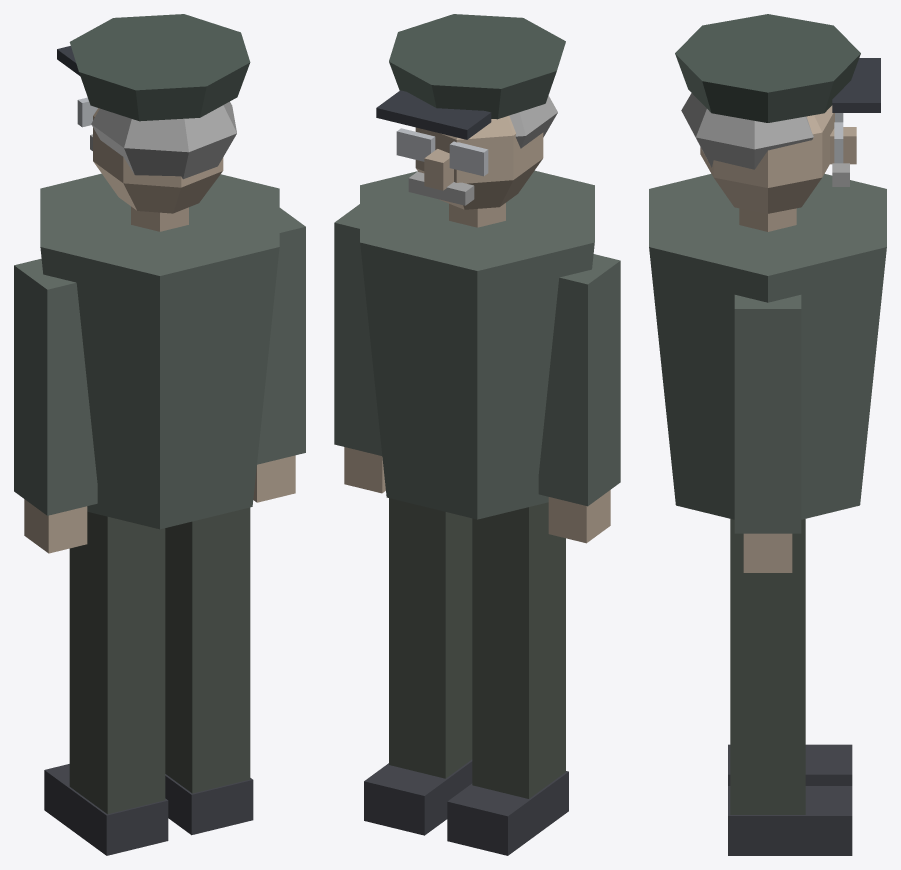
The model's file is personaje_eusebio.glb.
The picture shows the model from 3 angles, left to right: view 1: azimuth 30°, elevation 25°; view 2: azimuth 150°, elevation 25°; view 3: azimuth 270°, elevation 25°; orthographic projection.
Parts seen in each view (by area): view 1: Eusebio_Torso, Eusebio_PiernaIzq, Eusebio_Cabeza, Eusebio_PiernaDer, Eusebio_BrazoIzq, Eusebio_BrazoDer; view 2: Eusebio_Torso, Eusebio_PiernaIzq, Eusebio_Cabeza, Eusebio_PiernaDer, Eusebio_BrazoIzq, Eusebio_BrazoDer; view 3: Eusebio_Torso, Eusebio_Cabeza, Eusebio_PiernaDer, Eusebio_BrazoDer, Eusebio_PiernaIzq.
Part boxes in pixels (x1,y1,x2,y2): Eusebio_Torso: (40, 173, 279, 529); Eusebio_PiernaIzq: (44, 511, 168, 855); Eusebio_Cabeza: (57, 14, 250, 231); Eusebio_PiernaDer: (165, 507, 253, 835); Eusebio_BrazoIzq: (14, 258, 97, 553); Eusebio_BrazoDer: (253, 208, 305, 502); Eusebio_Torso: (360, 170, 594, 519); Eusebio_PiernaIzq: (447, 502, 568, 855); Eusebio_Cabeza: (376, 14, 565, 227); Eusebio_PiernaDer: (364, 498, 472, 835); Eusebio_BrazoIzq: (538, 254, 620, 543); Eusebio_BrazoDer: (334, 204, 385, 493); Eusebio_Torso: (649, 174, 886, 519); Eusebio_Cabeza: (675, 14, 880, 231); Eusebio_PiernaDer: (728, 519, 852, 855); Eusebio_BrazoDer: (734, 295, 801, 572); Eusebio_PiernaIzq: (728, 744, 852, 785).
Bounding box in the file's own units: 0.67 × 1.91 × 0.5369.
